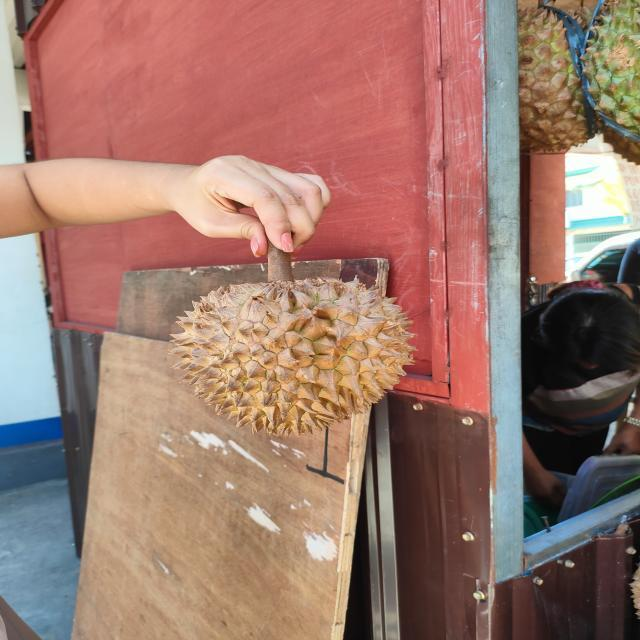mature: (166, 278, 417, 440)
